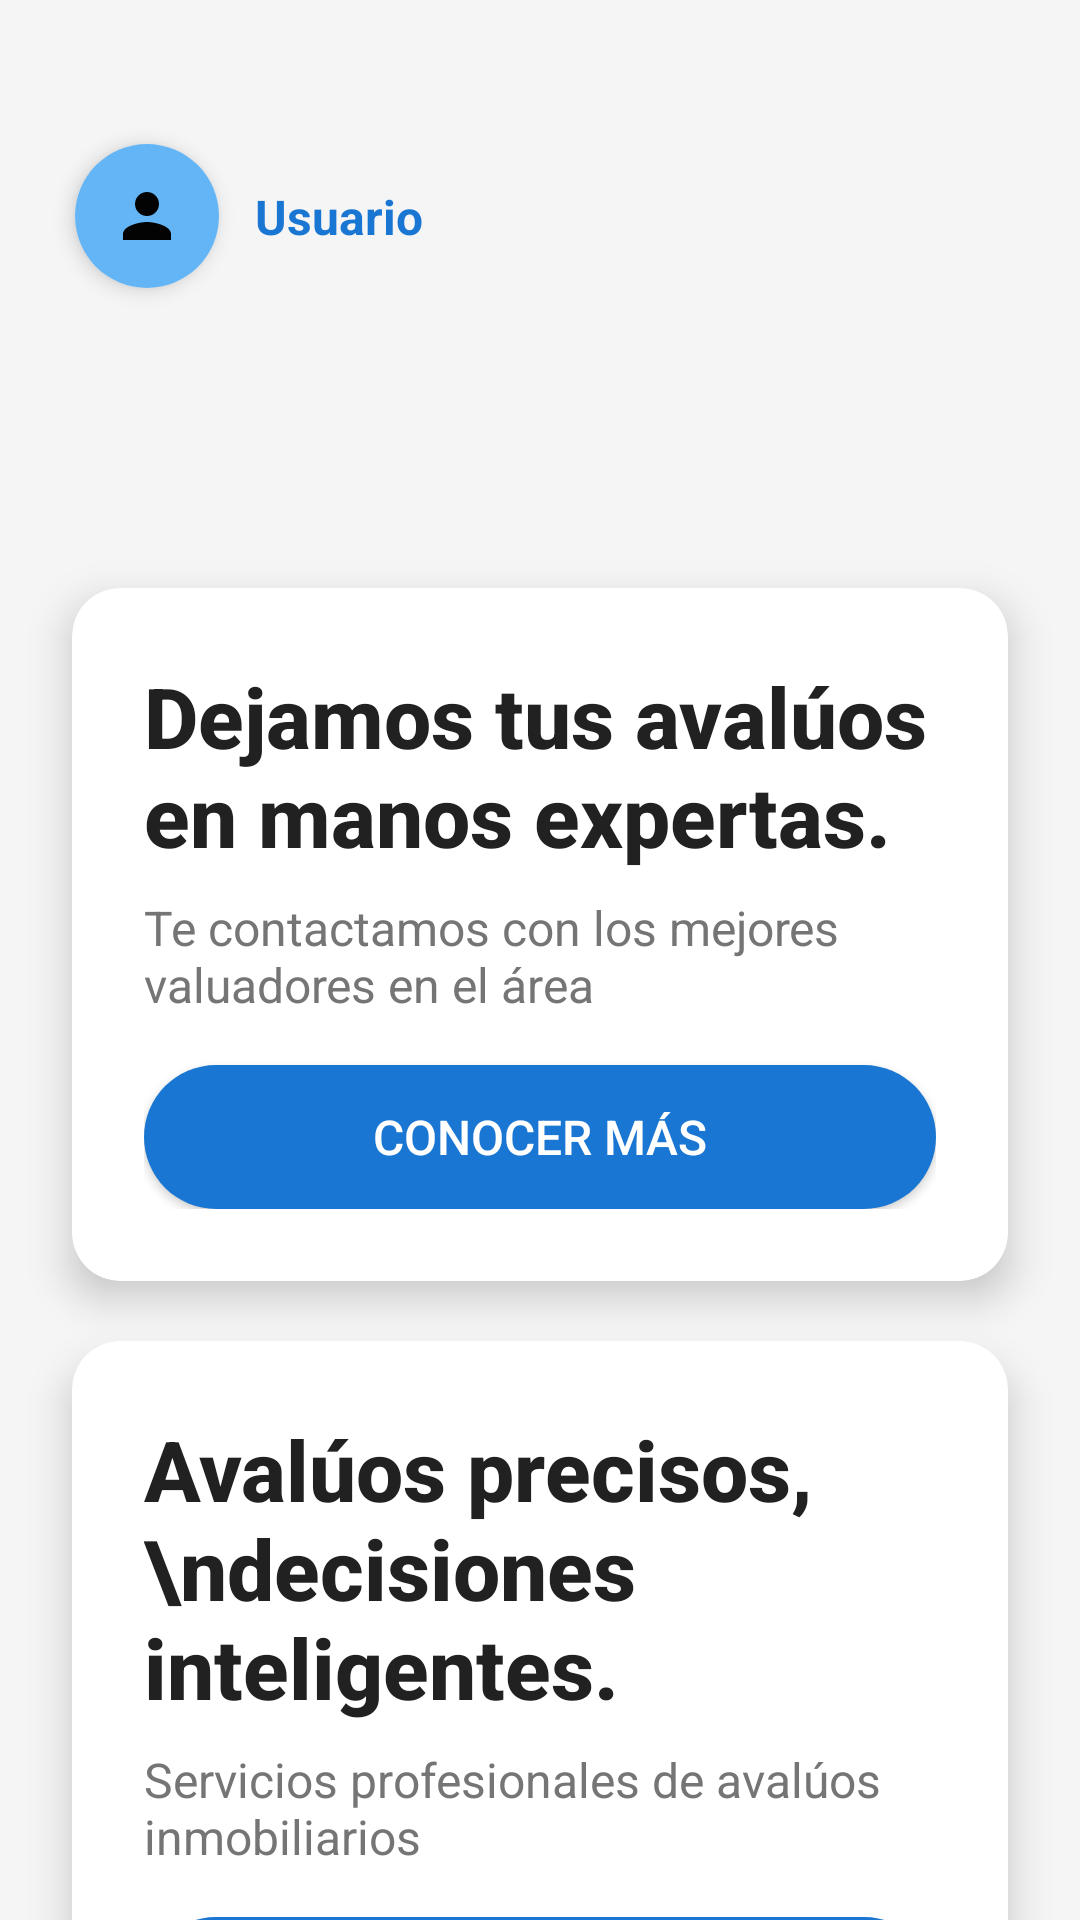

Icon click points for this 1080 × 1920 phone screenshot, format [x,y]:
profile: [147,216]
